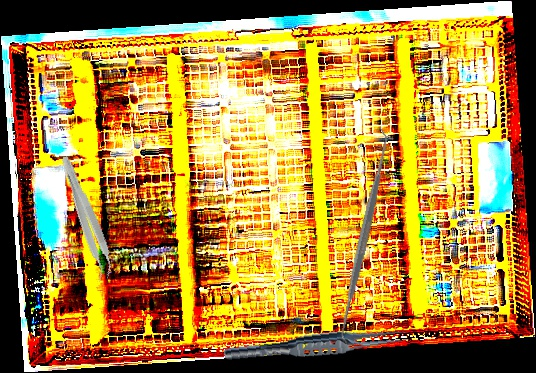Spatula Surgical: (327, 126, 401, 344)
Tissue Forceps: (223, 321, 411, 369), (52, 153, 119, 283)
